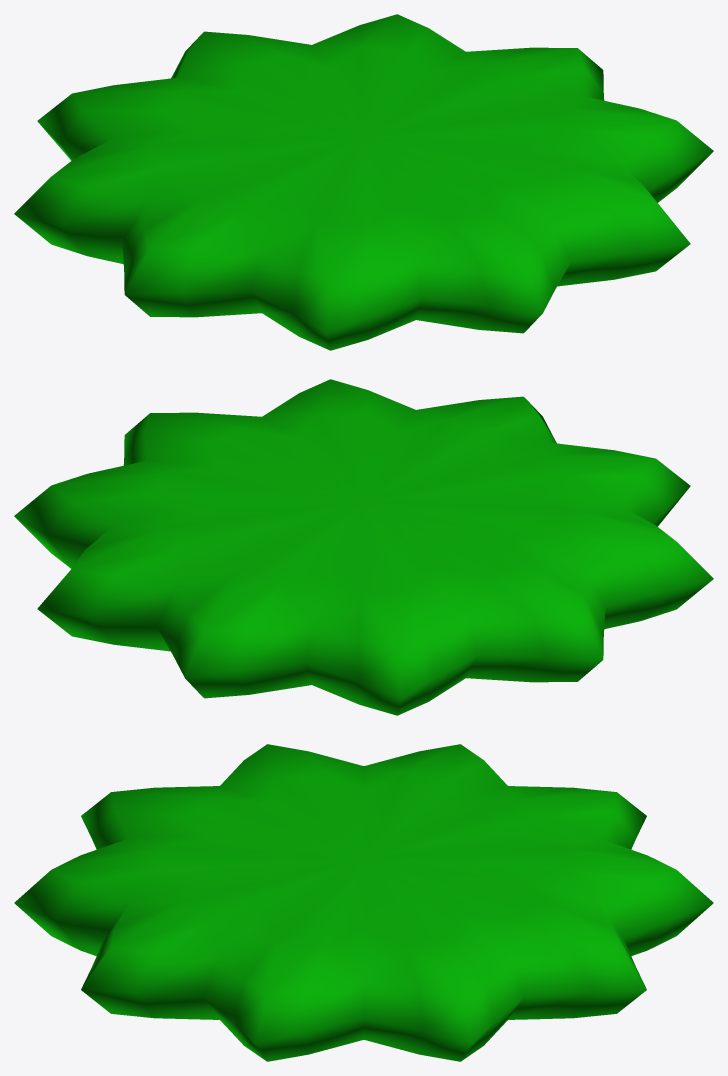
Rendered from Lechuga.fbx.
3 renders of one model, top to bottom at view 1: azimuth 30°, elevation 25°; view 2: azimuth 150°, elevation 25°; view 3: azimuth 270°, elevation 25°, orthographic. The views are drawn at different scales.
Parts seen in each view (by area): view 1: pCylinder71; view 2: pCylinder71; view 3: pCylinder71.
Boxes of the visible parts, x1,y1,x2,y2 form: pCylinder71: [14, 14, 713, 350]; pCylinder71: [14, 379, 713, 715]; pCylinder71: [14, 744, 713, 1061].
Size of the model in its own units: 3.1 by 0.4555 by 3.26.
